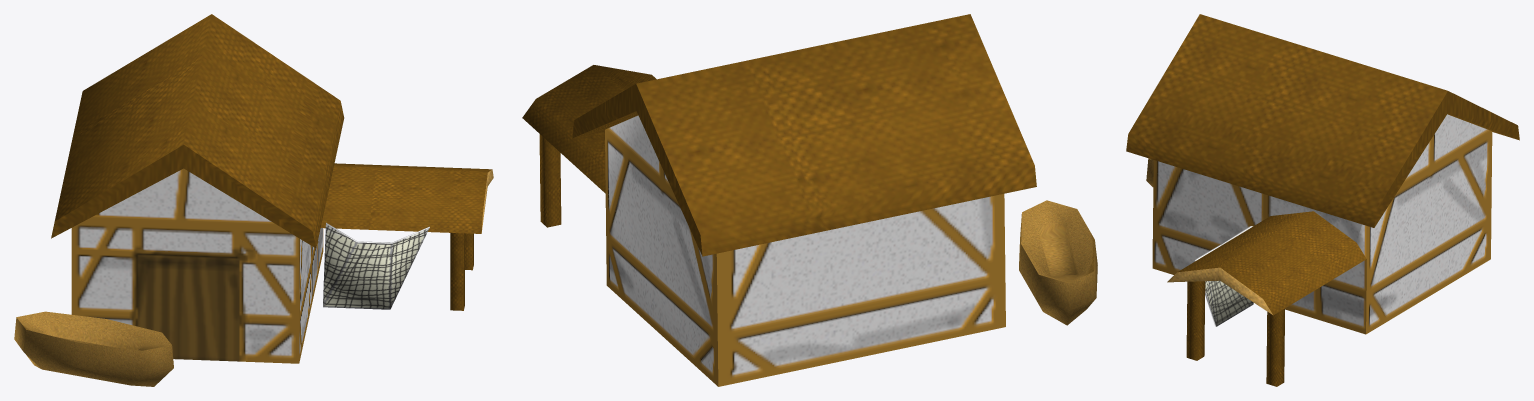
File: fishing_hut2.gltf
3 renders of one model, left to right at view 1: azimuth 30°, elevation 25°; view 2: azimuth 150°, elevation 25°; view 3: azimuth 270°, elevation 25°, orthographic. The views are drawn at different scales.
Parts seen in each view (by area): view 1: something.001; view 2: something.001; view 3: something.001.
Boxes of the visible parts, x1,y1,x2,y2 form: something.001: (14,14,493,386); something.001: (522,14,1097,386); something.001: (1126,14,1519,386).
Bounding box in the file's own units: 3.14 × 1.43 × 2.33.
Materials: 1 (1 with a texture image).
